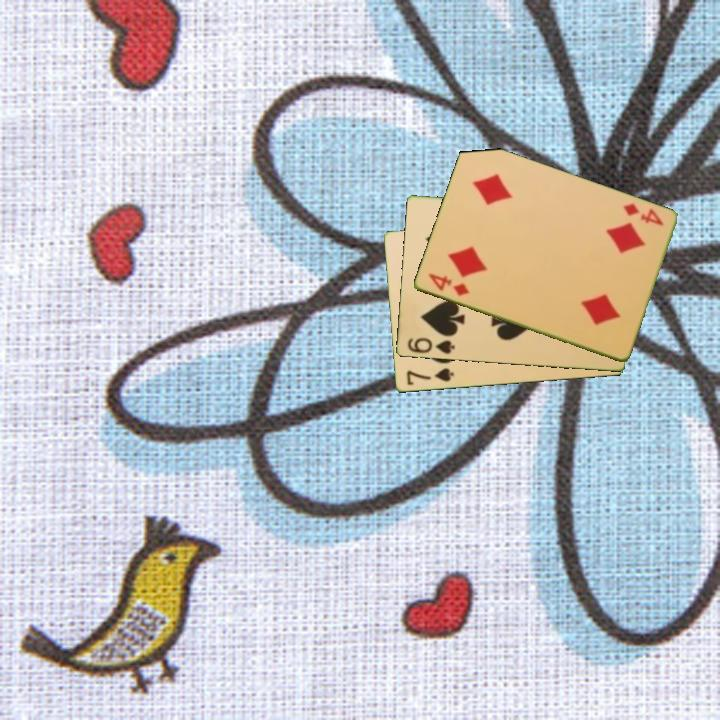4d: (424, 270, 472, 300), (619, 200, 666, 229)
6s: (404, 334, 457, 357)
7s: (403, 365, 457, 388)
